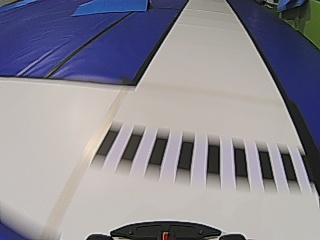CrossWalk: (94, 128, 303, 181)
